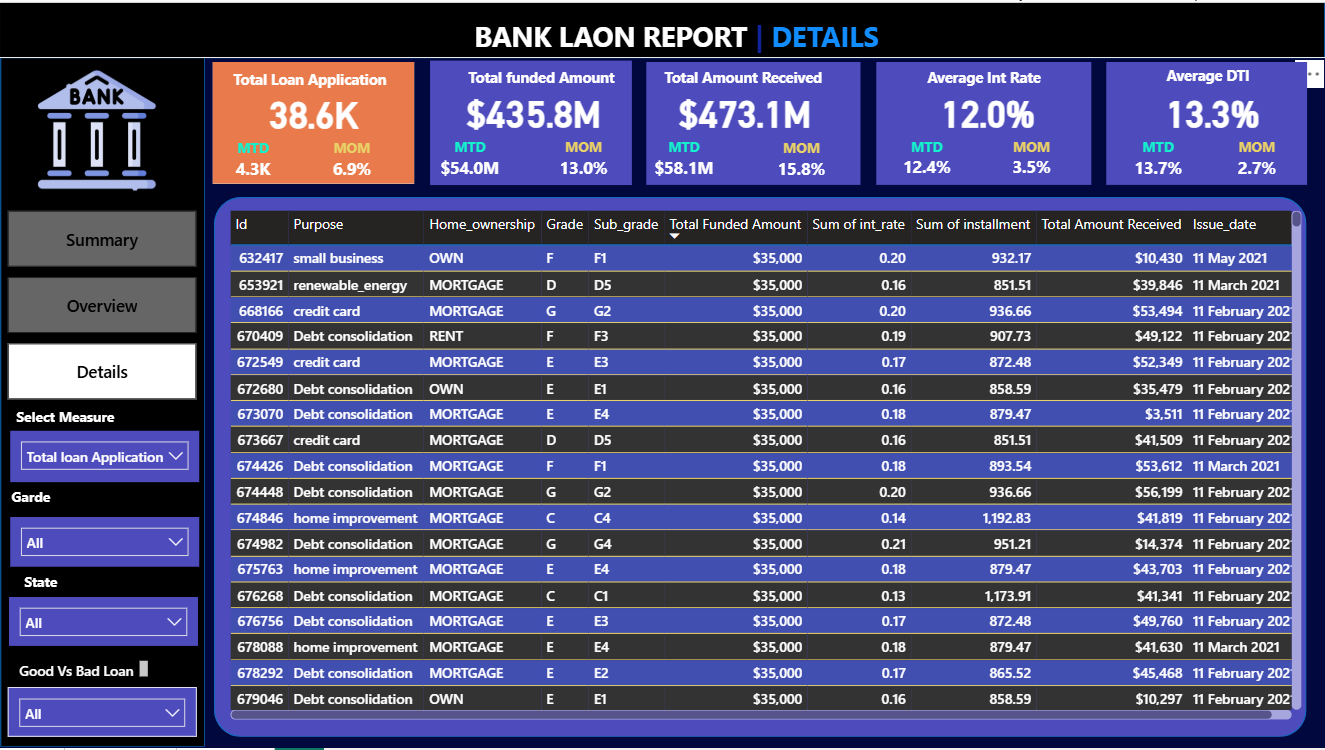

The page's visual inventory and layout, read from the dashboard file:
{"tool":"powerbi","page":{"name":"Details","canvas":[1280,720],"ordinal":2},"visuals":[{"type":"shape","box":[1.2,53.1,197.9,666],"z":0},{"type":"shape","box":[0,0,1280,54.2],"z":1000},{"type":"textbox","box":[454.2,9.6,514.6,45.3],"z":2000},{"type":"shape","box":[206.3,58,194.7,117.3],"z":3000},{"type":"card","fields":{"Values":["Date Table.Total loan Application"]},"box":[205.8,81,194.9,52.1],"z":4000},{"type":"textbox","box":[205.4,60.7,193.7,37.5],"z":5000},{"type":"card","title":"MTD","fields":{"Values":["Date Table.MTD Loan Application"]},"box":[207.2,131.7,75.5,45.3],"z":6000},{"type":"card","title":"MOM","fields":{"Values":["Date Table.MOM LOAN APPLICATION"]},"box":[303.3,131.7,75.5,45.3],"z":7000},{"type":"shape","box":[416.4,56.7,194.7,119.9],"z":8000},{"type":"card","fields":{"Values":["Date Table.Total Funded Amount"]},"box":[418.9,80,194.9,52.1],"z":9000},{"type":"textbox","box":[420.3,58,219.2,41.3],"z":10000},{"type":"card","title":"MTD","fields":{"Values":["Date Table.MTD funded amount"]},"box":[412.6,130.2,83.8,46.4],"z":11000},{"type":"card","title":"MOM","fields":{"Values":["Date Table.MOM total amount Received"]},"box":[515.7,130.2,98,46.4],"z":12000},{"type":"shape","box":[625.3,58,206.3,118.6],"z":13000},{"type":"card","fields":{"Values":["financial_loan.Totla Amount Received"]},"box":[622.1,80.1,194.9,52.1],"z":14000},{"type":"textbox","box":[626.6,58,188.2,41.3],"z":15000},{"type":"card","title":"MTD","fields":{"Values":["Date Table.MTD Total amount Received"]},"box":[623.7,130.3,74.8,47.1],"z":16000},{"type":"card","title":"MOM","fields":{"Values":["Date Table.MOM total Amount received"]},"box":[719.4,131.5,110.9,45.1],"z":17000},{"type":"shape","box":[847.1,58,207.6,118.6],"z":18000},{"type":"card","fields":{"Values":["financial_loan.Average Interest rate"]},"box":[857.4,79.9,193.4,51.6],"z":19000},{"type":"textbox","box":[857.4,58,193.4,40],"z":20000},{"type":"card","title":"MTD","fields":{"Values":["Date Table.MTD average int Rate"]},"box":[843.2,130.2,104.4,45.1],"z":21000},{"type":"card","title":"MOM","fields":{"Values":["Date Table.MOM Avg  Int rate"]},"box":[957.9,130.2,77.4,45.1],"z":22000},{"type":"shape","box":[1068.8,58,193.4,118.6],"z":23000},{"type":"card","fields":{"Values":["Date Table.Avg DTI"]},"box":[1068.8,79.9,205,51.6],"z":24000},{"type":"textbox","box":[1068.8,56.7,203.7,41.3],"z":25000},{"type":"card","title":"MTD","fields":{"Values":["Date Table.MTD avg DTI"]},"box":[1080.8,130.2,75.5,45.3],"z":26000},{"type":"card","title":"MOM","fields":{"Values":["Date Table.MOM Avg DTI"]},"box":[1176.9,130.2,75.5,45.3],"z":27000},{"type":"slicer","fields":{"Values":["financial_loan.Good Vs Bad Loan"]},"box":[8.4,661.1,182.2,48.3],"z":28000},{"type":"textbox","box":[8.4,631,139.9,30.2],"z":29000},{"type":"slicer","fields":{"Values":["financial_loan.address_state"]},"box":[9.7,574.3,182.2,47.1],"z":30000},{"type":"slicer","fields":{"Values":["financial_loan.grade"]},"box":[10.9,497.1,182.2,48.3],"z":31000},{"type":"textbox","box":[0,463.3,65.1,33.8],"z":32000},{"type":"textbox","box":[0,545.3,84.5,29],"z":33000},{"type":"slicer","fields":{"Values":["Select Measure.Select Measure"]},"box":[10.9,413.8,182.2,49.5],"z":34000},{"type":"textbox","box":[1.2,386.1,125.5,27.7],"z":35000},{"type":"shape","box":[207.5,188.2,1054.4,521.2],"z":36000},{"type":"tableEx","fields":{"Values":["financial_loan.id","financial_loan.purpose","financial_loan.home_ownership","financial_loan.grade","financial_loan.sub_grade","Date Table.Total Funded Amount","Sum(financial_loan.int_rate)","Sum(financial_loan.installment)","financial_loan.Total Amount Received","financial_loan.issue_date"]},"box":[217.2,196.6,1044.8,500.7],"z":37000},{"type":"image","box":[8.4,57.9,171.3,130.3],"z":38000},{"type":"pageNavigator","box":[8.4,201.5,182.2,184.6],"z":39000}]}

Visuals, with their boxes in screenshot pixels (x1, y1, x2, y2), scaled from the page's 1280x720 canvas onto the 1325x750 screenshot:
shape: box=[1, 55, 206, 749]
shape: box=[0, 0, 1324, 56]
textbox: box=[470, 10, 1003, 57]
shape: box=[214, 60, 415, 183]
card - Date Table.Total loan Application: box=[213, 84, 415, 139]
textbox: box=[213, 63, 413, 102]
"MTD" card: box=[214, 137, 293, 184]
"MOM" card: box=[314, 137, 392, 184]
shape: box=[431, 59, 633, 184]
card - Date Table.Total Funded Amount: box=[434, 83, 635, 138]
textbox: box=[435, 60, 662, 103]
"MTD" card: box=[427, 136, 514, 184]
"MOM" card: box=[534, 136, 635, 184]
shape: box=[647, 60, 861, 184]
card - financial_loan.Totla Amount Received: box=[644, 83, 846, 138]
textbox: box=[649, 60, 843, 103]
"MTD" card: box=[646, 136, 723, 185]
"MOM" card: box=[745, 137, 859, 184]
shape: box=[877, 60, 1092, 184]
card - financial_loan.Average Interest rate: box=[888, 83, 1088, 137]
textbox: box=[888, 60, 1088, 102]
"MTD" card: box=[873, 136, 981, 183]
"MOM" card: box=[992, 136, 1072, 183]
shape: box=[1106, 60, 1307, 184]
card - Date Table.Avg DTI: box=[1106, 83, 1319, 137]
textbox: box=[1106, 59, 1317, 102]
"MTD" card: box=[1119, 136, 1197, 183]
"MOM" card: box=[1218, 136, 1296, 183]
slicer - financial_loan.Good Vs Bad Loan: box=[9, 689, 197, 739]
textbox: box=[9, 657, 154, 689]
slicer - financial_loan.address_state: box=[10, 598, 199, 647]
slicer - financial_loan.grade: box=[11, 518, 200, 568]
textbox: box=[0, 483, 67, 518]
textbox: box=[0, 568, 87, 598]
slicer - Select Measure.Select Measure: box=[11, 431, 200, 483]
textbox: box=[1, 402, 131, 431]
shape: box=[215, 196, 1306, 739]
tableEx - financial_loan.id x financial_loan.purpose: box=[225, 205, 1306, 726]
image: box=[9, 60, 186, 196]
pageNavigator: box=[9, 210, 197, 402]
